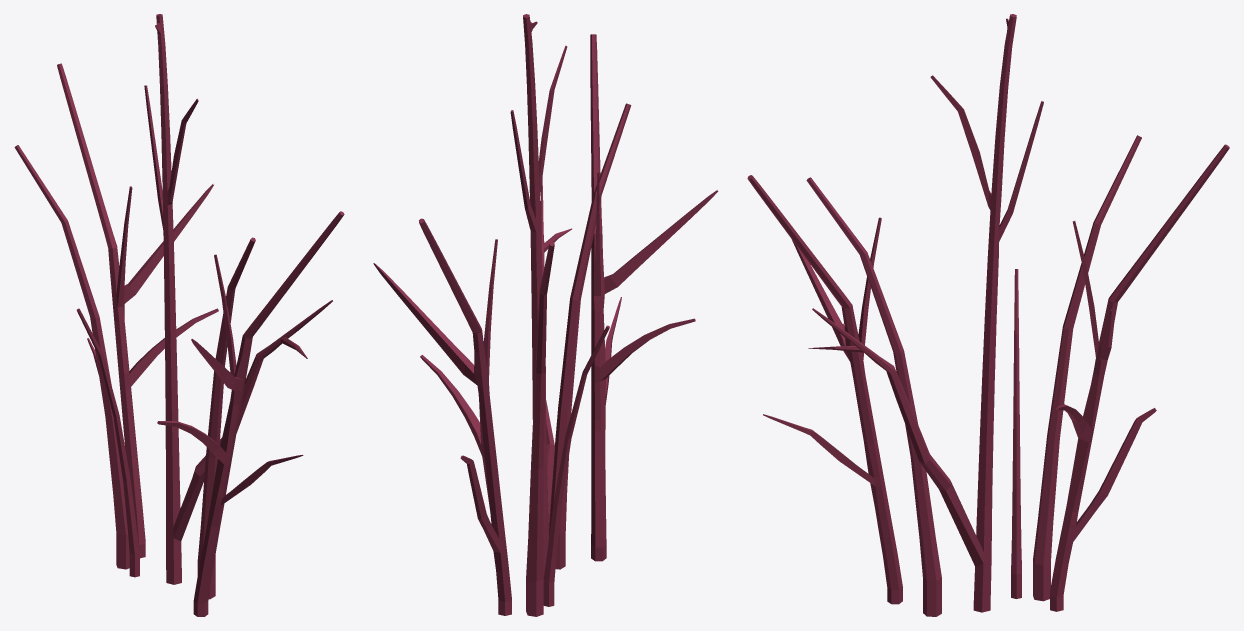
Rendered from red willow.gltf.
3 renders of one model, left to right at view 1: azimuth 30°, elevation 25°; view 2: azimuth 150°, elevation 25°; view 3: azimuth 270°, elevation 25°, orthographic. The views are drawn at different scales.
Parts seen in each view (by area): view 1: red willow.001; view 2: red willow.001; view 3: red willow.001.
Boxes of the visible parts, x1,y1,x2,y2 form: red willow.001: (14, 14, 344, 616); red willow.001: (373, 14, 718, 616); red willow.001: (747, 14, 1229, 616).
Size of the model in its own units: 1.33 by 3.79 by 2.79.
